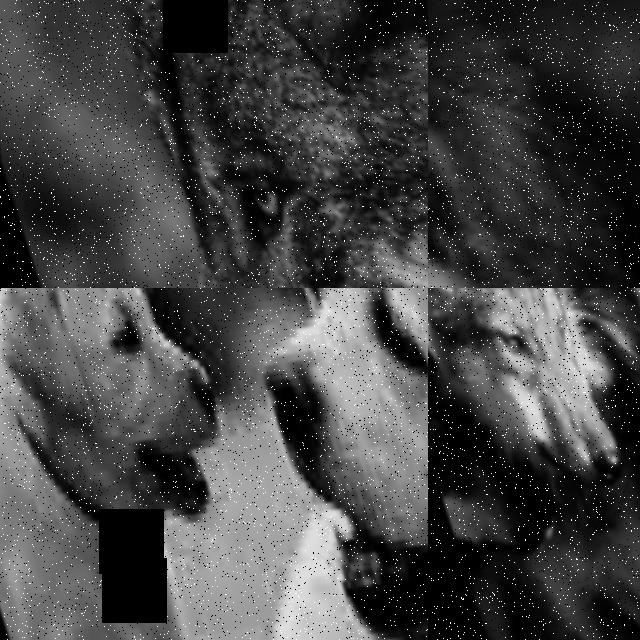dog: (0, 288, 378, 640), (84, 288, 428, 640), (428, 0, 640, 288)
wolf: (0, 0, 428, 288), (428, 288, 640, 640), (428, 288, 560, 640), (588, 288, 640, 640)
